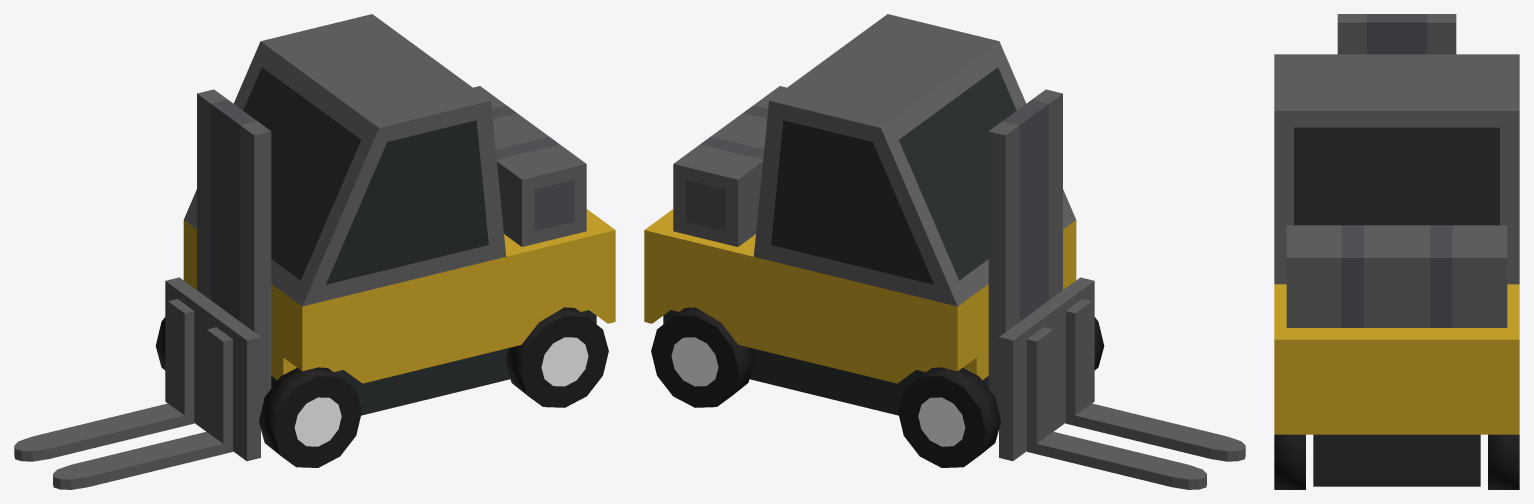
The model's file is forklift.dae.
3 views of the same model, side by side, from view 1: azimuth 30°, elevation 25°; view 2: azimuth 150°, elevation 25°; view 3: azimuth 270°, elevation 25° (orthographic). The views are drawn at different scales.
Parts seen in each view (by area): view 1: forklift; view 2: forklift; view 3: forklift.
Part boxes in pixels (x1,y1,x2,y2): forklift: (14,14,615,489); forklift: (644,14,1245,489); forklift: (1274,14,1519,489).
Bounding box in the file's own units: 0.9197 × 0.3618 × 0.5475.
